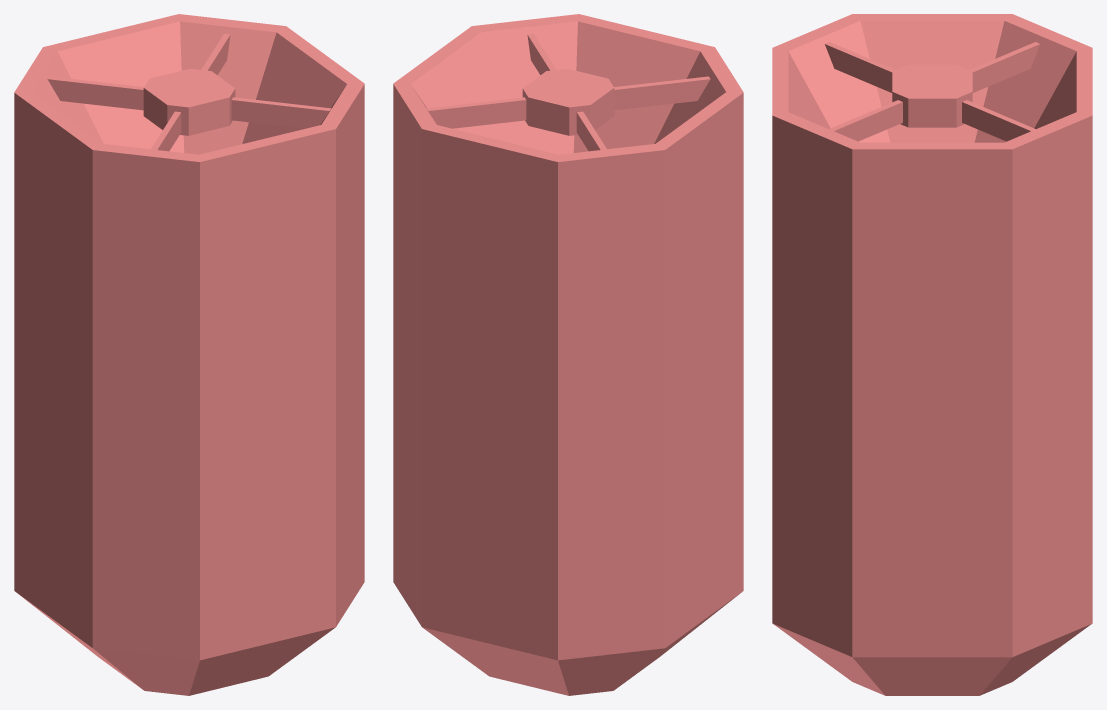
Rendered from Light_Deng2_1X2_off.FBX.
The picture shows the model from 3 angles, left to right: view 1: azimuth 30°, elevation 25°; view 2: azimuth 150°, elevation 25°; view 3: azimuth 270°, elevation 25°; orthographic projection.
Parts seen in each view (by area): view 1: Box002; view 2: Box002; view 3: Box002.
Boxes of the visible parts, x1=… form: Box002: x1=14, y1=14, x2=364, y2=695; Box002: x1=393, y1=14, x2=743, y2=695; Box002: x1=772, y1=14, x2=1092, y2=695.
Bounding box in the file's own units: 1 × 2 × 1.
